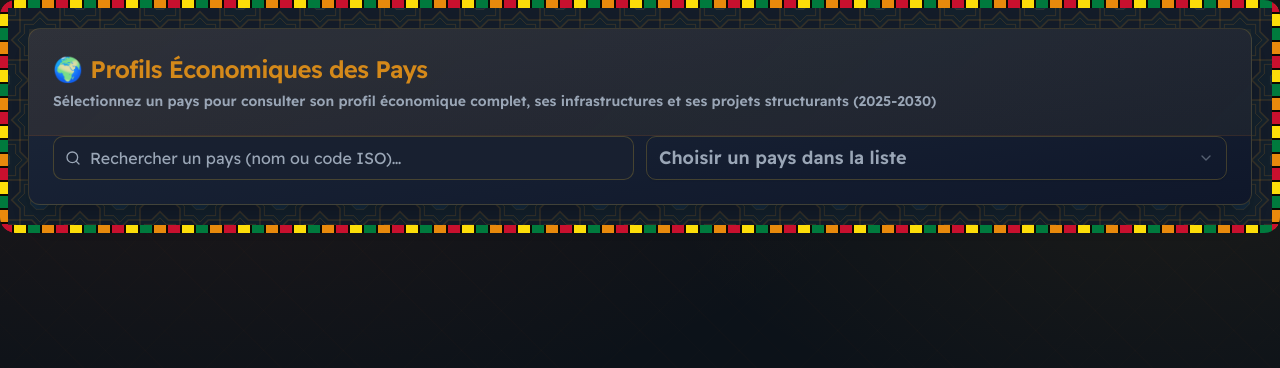
it: Profils Pays — recherche de pays › dit quand aucun pays ne correspond
Step 1. Type "zzz" into the dropdown labelled "Rechercher un pays" → (344, 158), box left=53, top=136, right=634, bottom=180
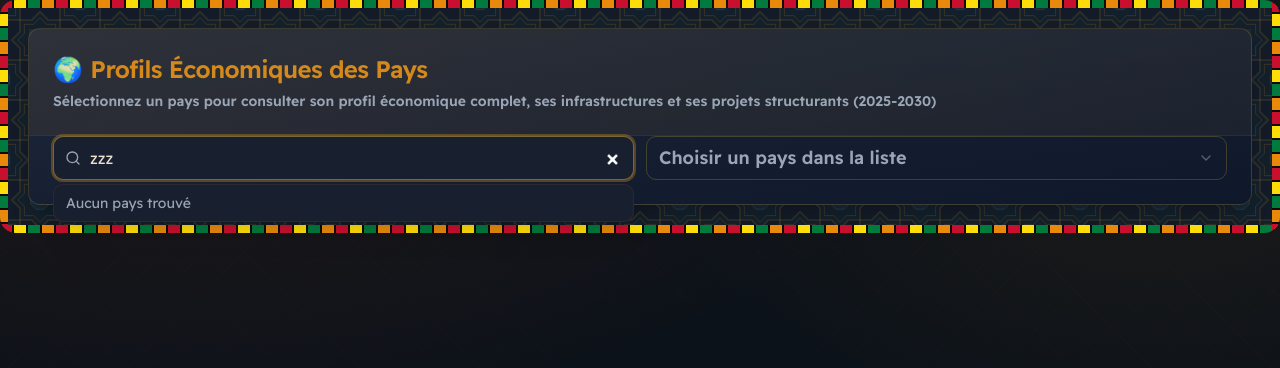
Check: the message reads "Aucun pays trouvé", box left=66, top=194, right=191, bottom=212
